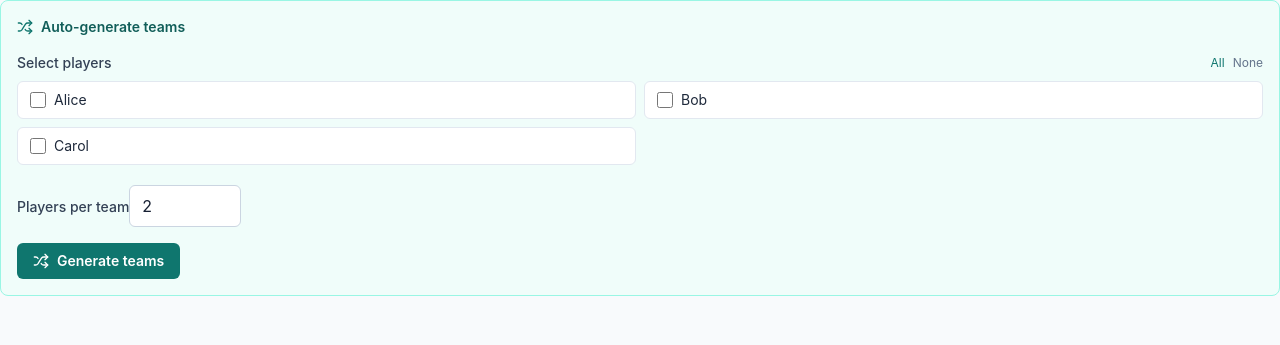
Test: GenerateTeamsWizard › supports selecting all players and shows leftover summary
The image size is (1280, 345).
Click the button "All": (1218, 63) [1211,55,1225,71]
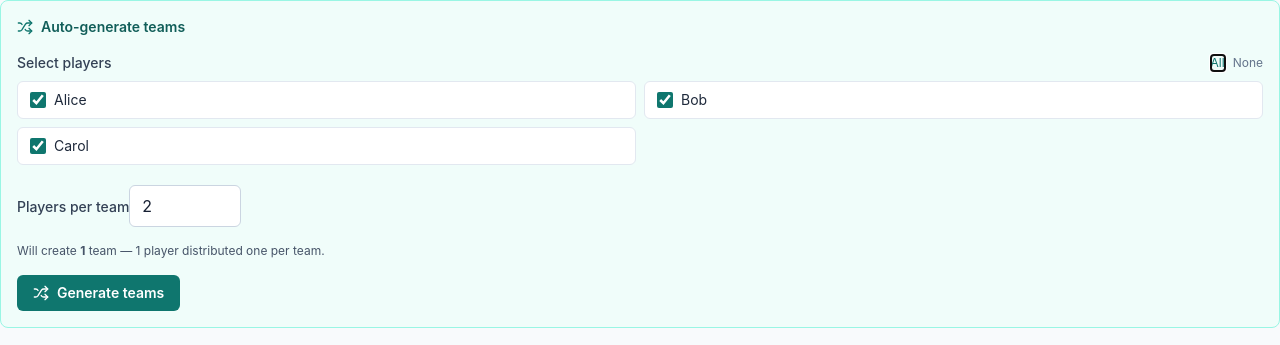
Expected: the text "Will create 1 team — 1 player distributed one per team." is shown, [17,243,325,258]
